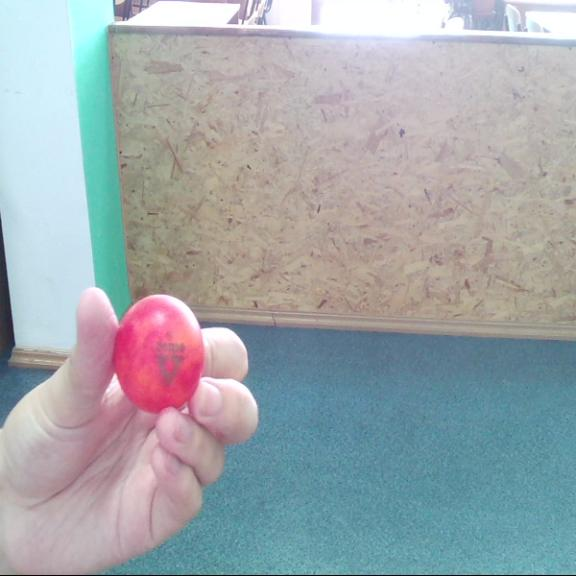ball: (115, 293, 205, 416)
